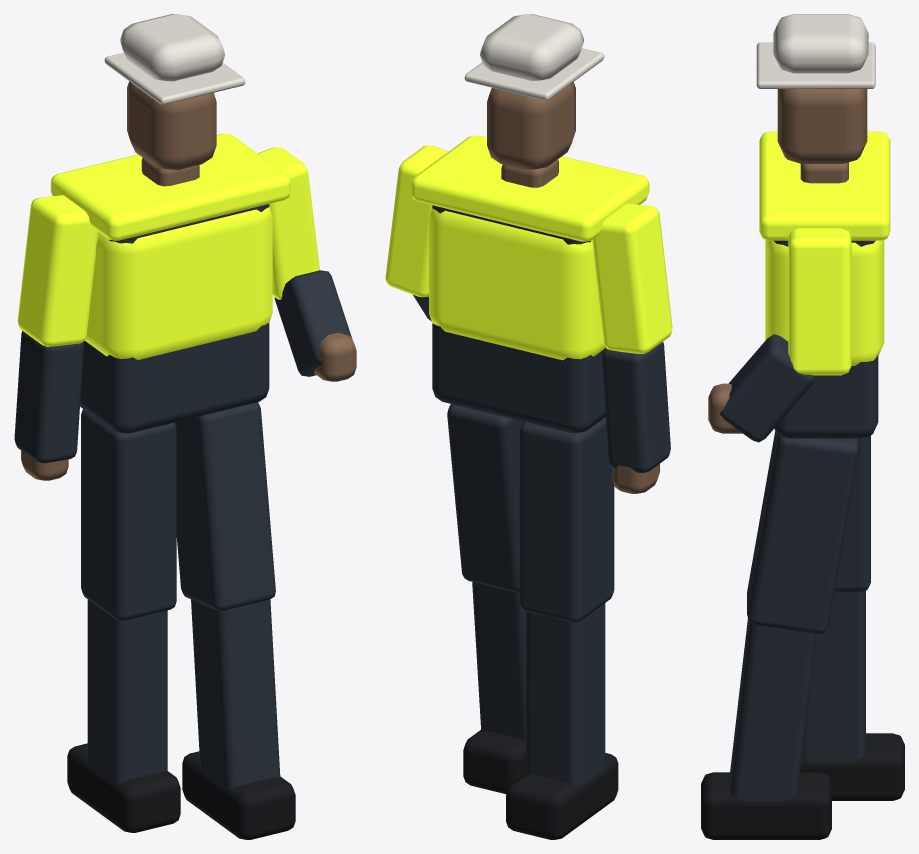
File: worker.glb
The picture shows the model from 3 angles, left to right: view 1: azimuth 30°, elevation 25°; view 2: azimuth 150°, elevation 25°; view 3: azimuth 270°, elevation 25°; orthographic projection.
Visible parts, largest first — view 1: worker; view 2: worker; view 3: worker.
Boxes of the visible parts, x1,y1,x2,y2 form: worker: [14, 14, 356, 839]; worker: [385, 14, 672, 839]; worker: [701, 14, 904, 839].
Bounding box in the file's own units: 0.6617 × 1.79 × 0.42.
